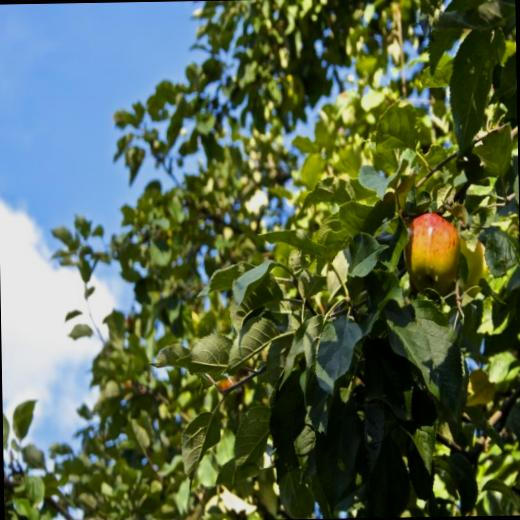Apple: (402, 212, 462, 296)
